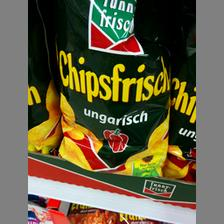Chips: (51, 0, 171, 176)
